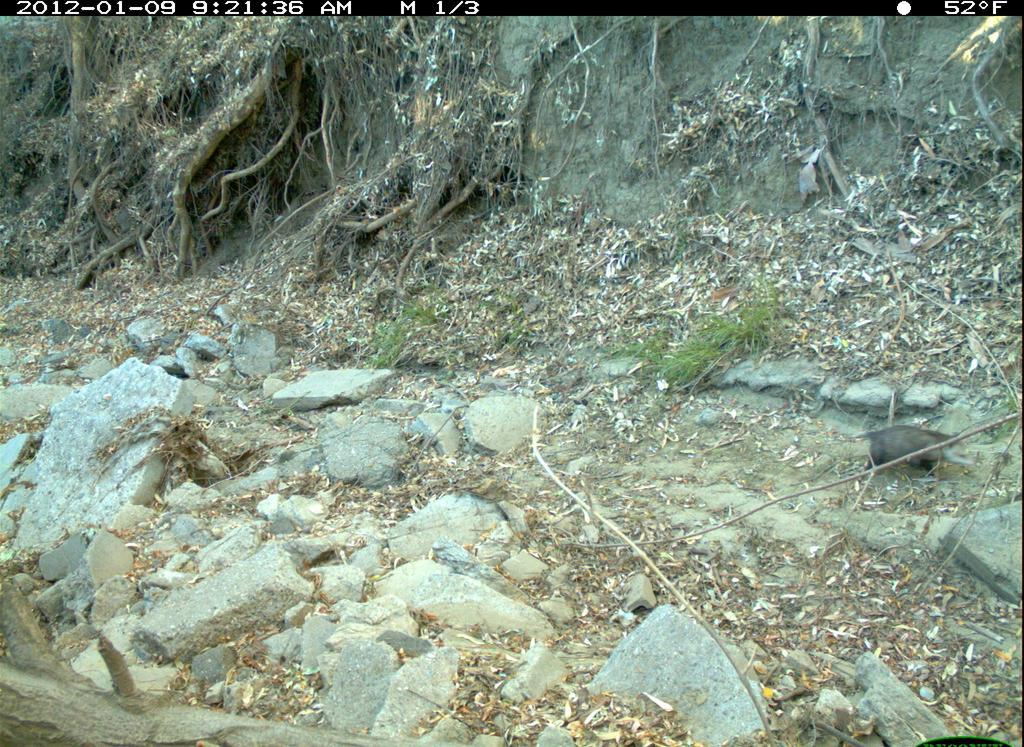opossum: (840, 417, 975, 487)
